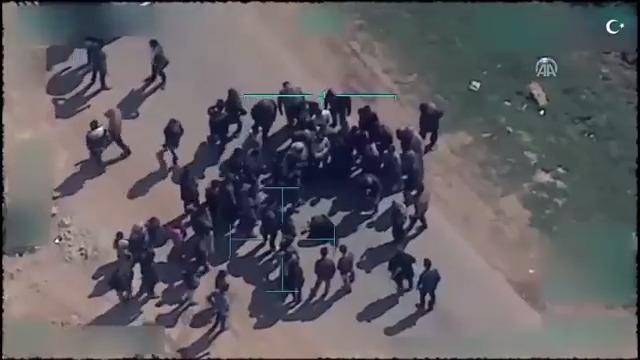insan: (412, 250, 453, 310), (155, 111, 193, 168), (405, 177, 441, 232), (303, 245, 336, 304), (246, 91, 283, 143), (80, 115, 111, 173), (106, 99, 135, 161), (387, 246, 421, 296), (202, 93, 229, 155), (206, 282, 237, 335), (278, 72, 307, 128), (140, 36, 167, 94), (335, 238, 361, 296), (414, 100, 448, 144), (225, 86, 253, 136)
